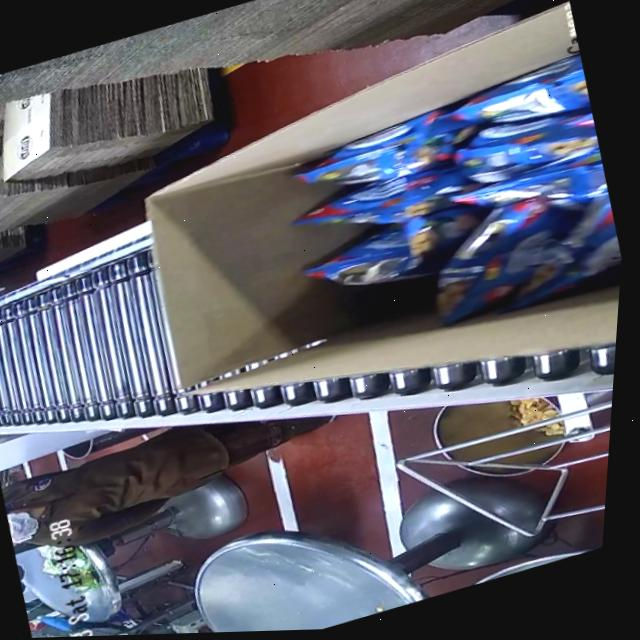PAPRIKA: (266, 61, 635, 368)
